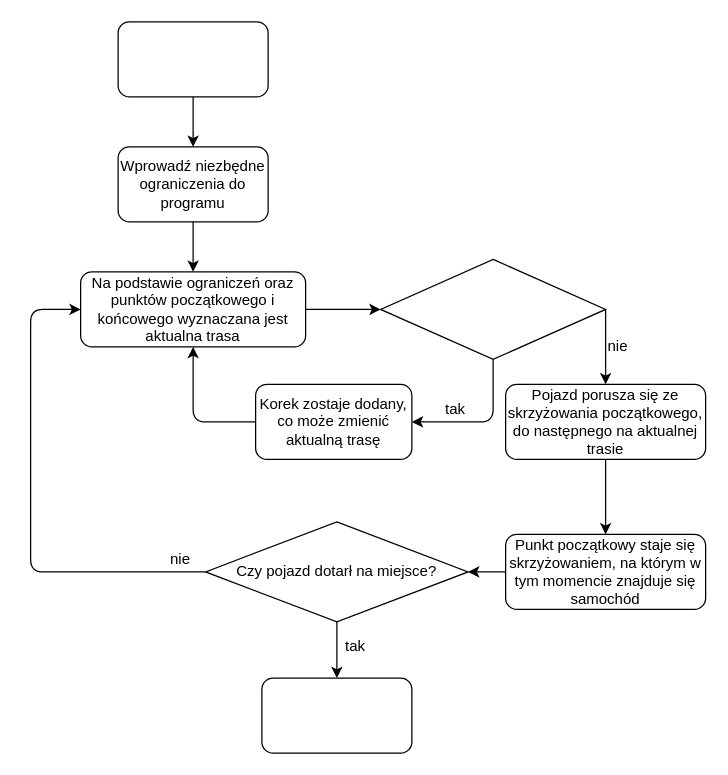
Image size: 728x775. Some labels were removed from this diagram. Each missing label, with the box of its shape:
Czy chcesz dodać korek?: (379, 258, 606, 359)
Koniec: (261, 677, 412, 753)
Wybierz punkt początkowy i końcowy: (117, 21, 268, 97)
